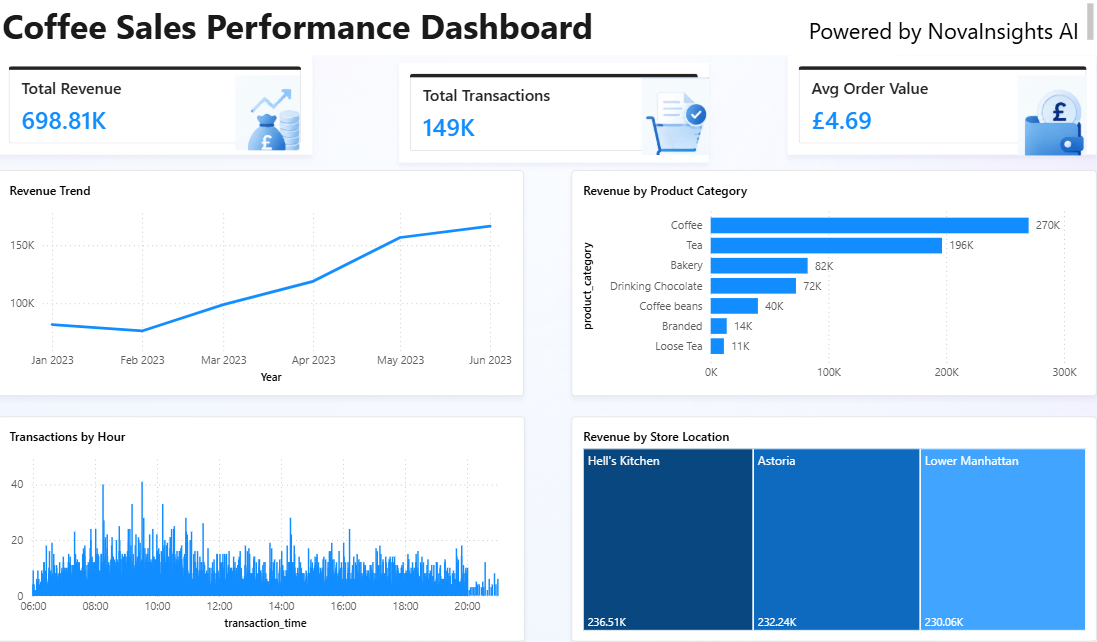

This screenshot's page, from the dashboard's own definition file:
{"tool":"powerbi","page":{"name":"Overview","canvas":[1280,720],"ordinal":0},"visuals":[{"type":"cardVisual","fields":{"Data":["Transactions.Total Revenue"]},"box":[42.5,61.7,345.8,109.8],"z":0},{"type":"cardVisual","fields":{"Data":["Transactions.Total Transactions"]},"box":[483,70,340.3,109.8],"z":1000},{"type":"cardVisual","fields":{"Data":["Transactions.Avg Order Value"]},"box":[909.8,61.7,340.3,109.8],"z":2000},{"type":"textbox","box":[42.5,0,1208.9,61.7],"z":3000},{"type":"clusteredBarChart","title":"Revenue by Product Category","fields":{"Category":["Transactions.product_category"],"Y":["Transactions.Total Revenue"]},"box":[672.4,188,577.7,248.4],"z":4000},{"type":"treemap","title":"Revenue by Store Location","fields":{"Group":["Transactions.store_location"],"Values":["Transactions.Total Revenue"]},"box":[672.4,458.3,577.7,248.4],"z":5000},{"type":"lineChart","title":"Revenue Trend","fields":{"Y":["Transactions.Total Revenue"],"Category":["Transactions.transaction_date.Variation.Date Hierarchy.Year","Transactions.transaction_date.Variation.Date Hierarchy.Quarter","Transactions.transaction_date.Variation.Date Hierarchy.Month"]},"box":[42.5,188,577.7,248.4],"z":6000},{"type":"clusteredColumnChart","title":"Transactions by Hour","fields":{"Category":["Transactions.transaction_time"],"Y":["Transactions.Total Transactions"]},"box":[43,458,578,248],"z":7000},{"type":"image","box":[728.6,86.4,115.3,85.1],"z":8000},{"type":"image","box":[1119.7,83.7,160.5,87.8],"z":9000},{"type":"image","box":[289.5,83.7,98.8,82.3],"z":10000}]}

Visuals, with their boxes on the page's 1280x720 design canvas (x1, y1, x2, y2). These are canvas units, not pixel positions in the 1097x642 screenshot, which may show the page scaled, cropped or inside an application window:
cardVisual - Transactions.Total Revenue: [left=42, top=62, right=388, bottom=172]
cardVisual - Transactions.Total Transactions: [left=483, top=70, right=823, bottom=180]
cardVisual - Transactions.Avg Order Value: [left=910, top=62, right=1250, bottom=172]
textbox: [left=42, top=0, right=1251, bottom=62]
"Revenue by Product Category" clusteredBarChart: [left=672, top=188, right=1250, bottom=436]
"Revenue by Store Location" treemap: [left=672, top=458, right=1250, bottom=707]
"Revenue Trend" lineChart: [left=42, top=188, right=620, bottom=436]
"Transactions by Hour" clusteredColumnChart: [left=43, top=458, right=621, bottom=706]
image: [left=729, top=86, right=844, bottom=172]
image: [left=1120, top=84, right=1280, bottom=172]
image: [left=290, top=84, right=388, bottom=166]
